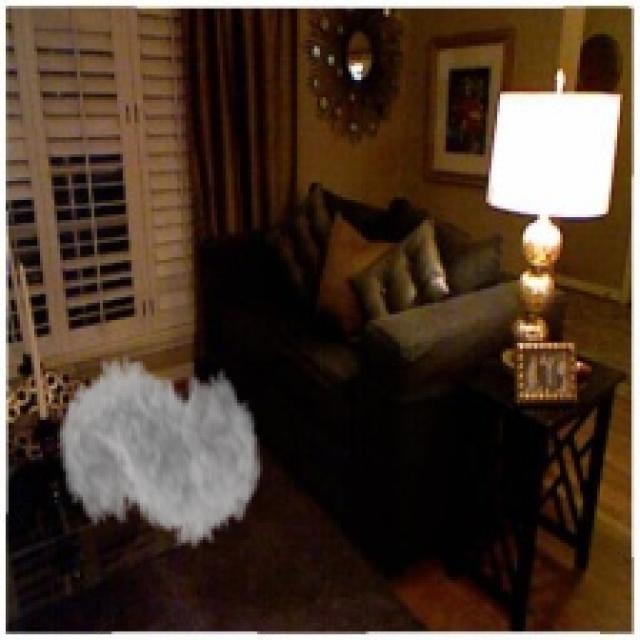smoke: (57, 331, 263, 566)
